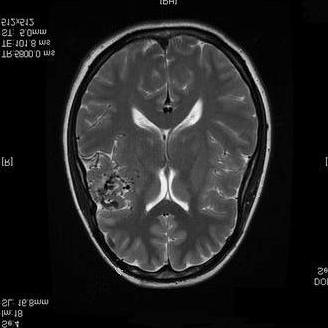Normal_Brain: (15, 1, 302, 324)
